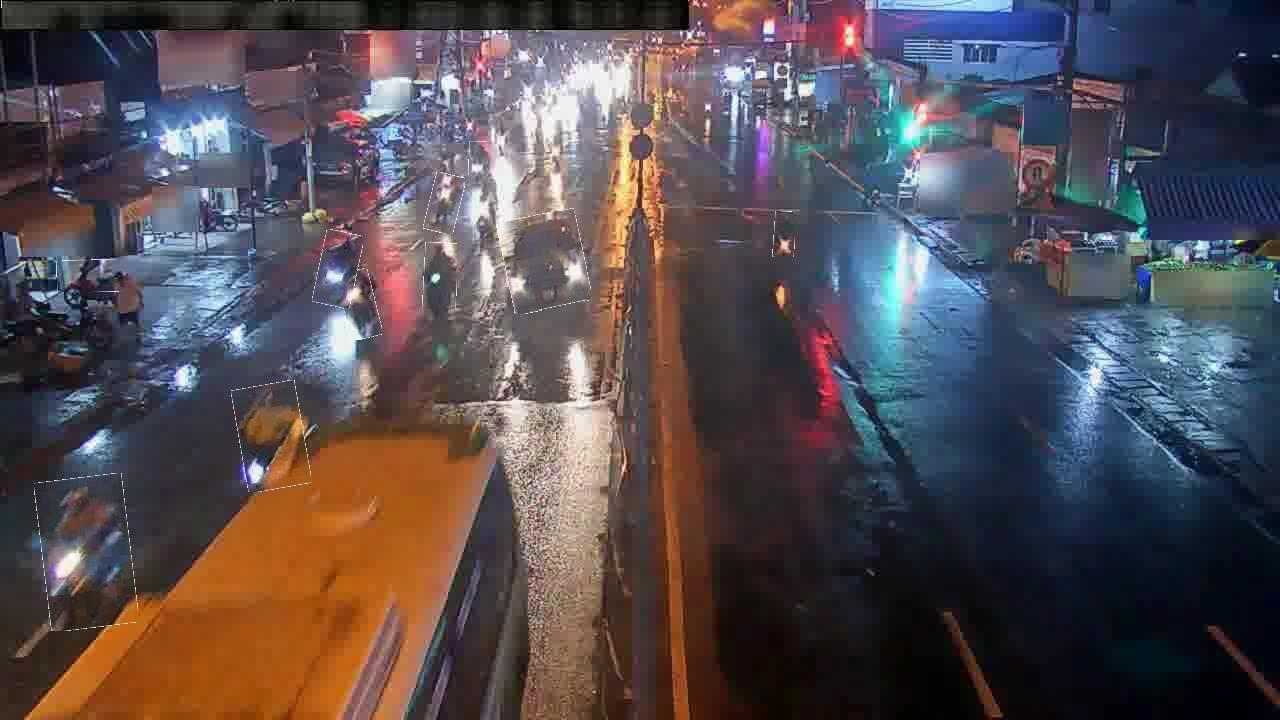container: (501, 212, 588, 312)
motorbike: (39, 476, 135, 630), (236, 383, 308, 491), (316, 231, 361, 308), (340, 270, 380, 340), (423, 243, 458, 310), (427, 174, 463, 234), (57, 260, 124, 292), (773, 212, 796, 258), (473, 194, 495, 242), (469, 141, 488, 176)
